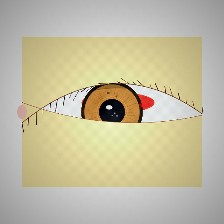hemorrhage_spot: (68, 62, 168, 143)
